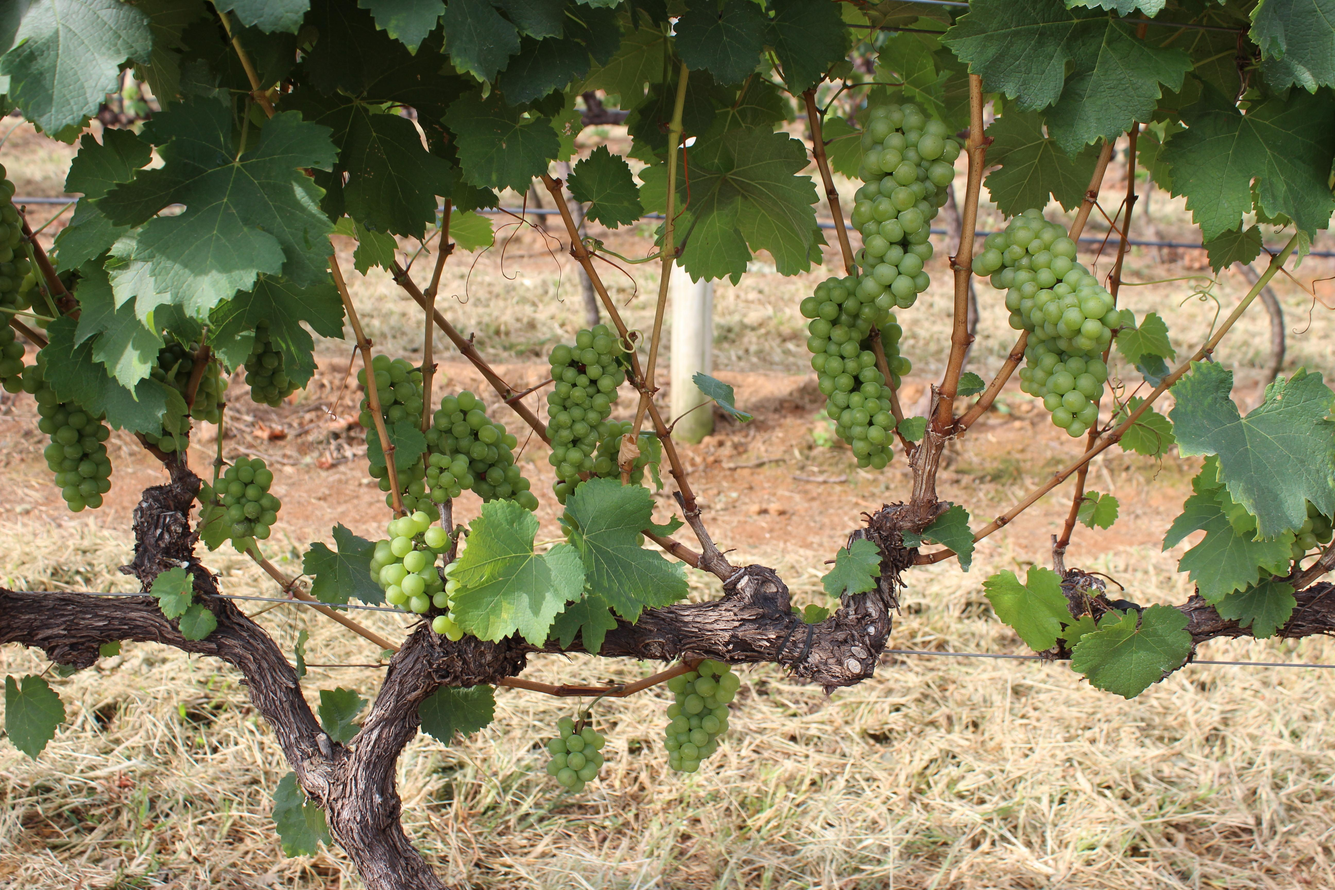leaf: (100, 98, 335, 318), (943, 0, 1191, 154), (1170, 363, 1335, 537), (1161, 85, 1335, 241), (293, 92, 453, 238), (677, 127, 823, 283), (0, 0, 152, 134), (452, 500, 585, 646), (561, 478, 687, 622), (209, 276, 344, 385), (1165, 494, 1293, 603), (985, 108, 1096, 216), (444, 93, 560, 193), (74, 262, 163, 389), (1071, 605, 1192, 698), (674, 0, 768, 84), (1250, 0, 1335, 92), (765, 0, 848, 93), (983, 566, 1071, 651), (581, 27, 668, 110), (303, 523, 383, 604), (499, 37, 590, 105), (443, 0, 519, 81), (568, 146, 643, 228), (5, 675, 66, 760), (272, 773, 332, 856), (1215, 578, 1296, 638), (418, 685, 494, 746), (358, 0, 444, 53), (551, 592, 618, 653), (919, 504, 974, 571), (821, 538, 881, 597), (214, 0, 311, 34), (1117, 312, 1176, 365), (1203, 224, 1263, 272), (1119, 407, 1176, 456), (317, 687, 366, 742), (822, 116, 863, 178), (385, 419, 427, 472), (151, 567, 193, 618), (450, 211, 494, 252), (1077, 491, 1119, 529), (178, 603, 217, 640), (640, 165, 666, 212), (366, 425, 387, 467), (547, 547, 557, 560), (566, 589, 578, 598), (569, 571, 578, 578), (324, 200, 329, 209), (67, 134, 73, 141), (469, 541, 474, 549), (452, 572, 459, 577), (533, 520, 536, 527), (456, 596, 458, 604), (682, 581, 684, 587), (456, 604, 457, 611), (581, 581, 582, 586), (535, 643, 537, 644), (558, 545, 560, 546), (646, 492, 647, 494), (906, 541, 907, 543), (753, 60, 754, 62), (882, 50, 883, 52), (466, 551, 467, 552), (1082, 184, 1083, 184)
